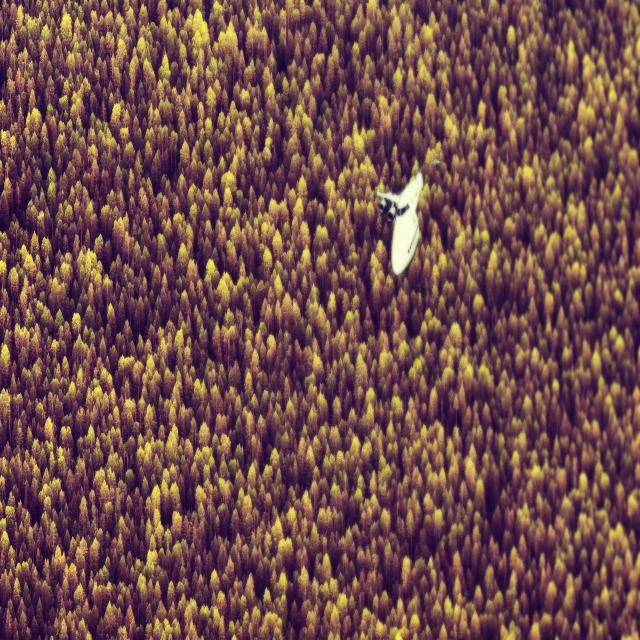airplane: (376, 171, 422, 275)
